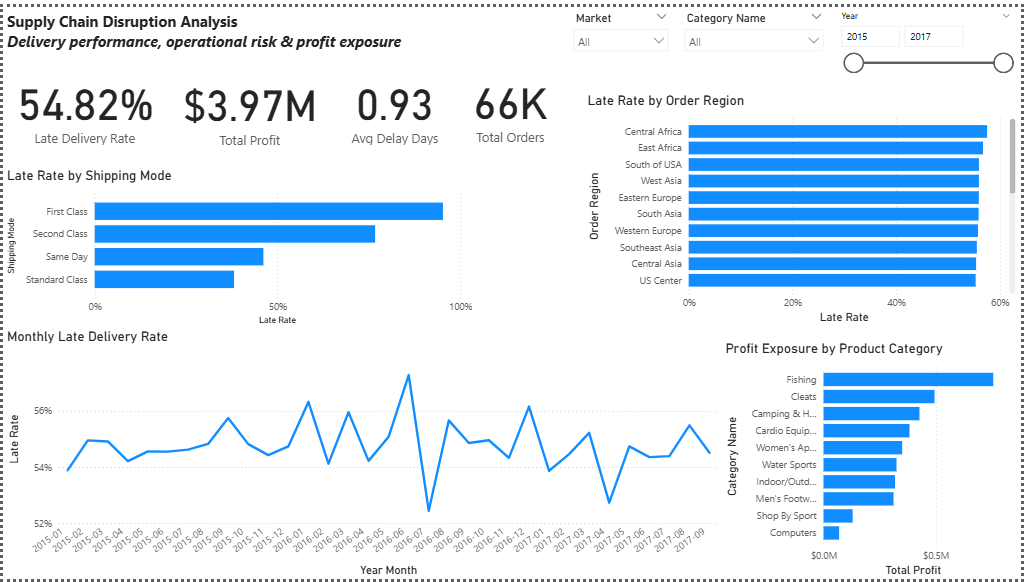

This screenshot's page, from the dashboard's own definition file:
{"tool":"powerbi","page":{"name":"Page 1","canvas":[1280,720],"ordinal":0},"visuals":[{"type":"card","fields":{"Values":["cleaned.Total Orders"]},"box":[569,72.4,136.2,106.9],"z":0},{"type":"card","fields":{"Values":["cleaned.Late Rate"]},"box":[0,74.1,205.2,105.2],"z":1000},{"type":"card","fields":{"Values":["cleaned.Total Profit"]},"box":[217.2,75.9,186.2,105.2],"z":2000},{"type":"card","fields":{"Values":["cleaned.Avg Delay Days"]},"box":[403.4,74.1,177.6,105.2],"z":3000},{"type":"clusteredBarChart","fields":{"Category":["cleaned.Order Region","cleaned.Category Name"],"Y":["cleaned.Late Rate"]},"box":[731,106.9,548.3,294.8],"z":4000},{"type":"clusteredBarChart","fields":{"Category":["cleaned.Shipping Mode"],"Y":["cleaned.Late Rate"]},"box":[0,201.7,594.8,201.7],"z":5000},{"type":"lineChart","title":"Monthly Late Delivery Rate","fields":{"Category":["DateTable.Year Month"],"Y":["cleaned.Late Rate"]},"box":[0,403.4,903.4,317.2],"z":6000},{"type":"barChart","title":"Profit Exposure by Product Category","fields":{"Category":["cleaned.Category Name"],"Y":["cleaned.Total Profit"]},"box":[903.4,419,375.9,301.7],"z":7000},{"type":"slicer","fields":{"Values":["cleaned.Market"]},"box":[706.9,0,139.7,74.1],"z":8000},{"type":"slicer","fields":{"Values":["cleaned.Category Name"]},"box":[846.6,0,194.8,74.1],"z":9000},{"type":"slicer","fields":{"Values":["DateTable.Year"]},"box":[1041.4,0,237.9,87.9],"z":10000},{"type":"textbox","box":[0,0,569,74.1],"z":11000}]}

Visuals, with their boxes in screenshot pixels (x1, y1, x2, y2), scaled from the page's 1280x720 canvas onto the 1030x582 screenshot:
card - cleaned.Total Orders: detection(458, 59, 567, 145)
card - cleaned.Late Rate: detection(0, 60, 165, 145)
card - cleaned.Total Profit: detection(175, 61, 325, 146)
card - cleaned.Avg Delay Days: detection(325, 60, 468, 145)
clusteredBarChart - cleaned.Order Region x cleaned.Category Name: detection(588, 86, 1029, 325)
clusteredBarChart - cleaned.Shipping Mode x cleaned.Late Rate: detection(0, 163, 479, 326)
"Monthly Late Delivery Rate" lineChart: detection(0, 326, 727, 581)
"Profit Exposure by Product Category" barChart: detection(727, 339, 1029, 581)
slicer - cleaned.Market: detection(569, 0, 681, 60)
slicer - cleaned.Category Name: detection(681, 0, 838, 60)
slicer - DateTable.Year: detection(838, 0, 1029, 71)
textbox: detection(0, 0, 458, 60)
